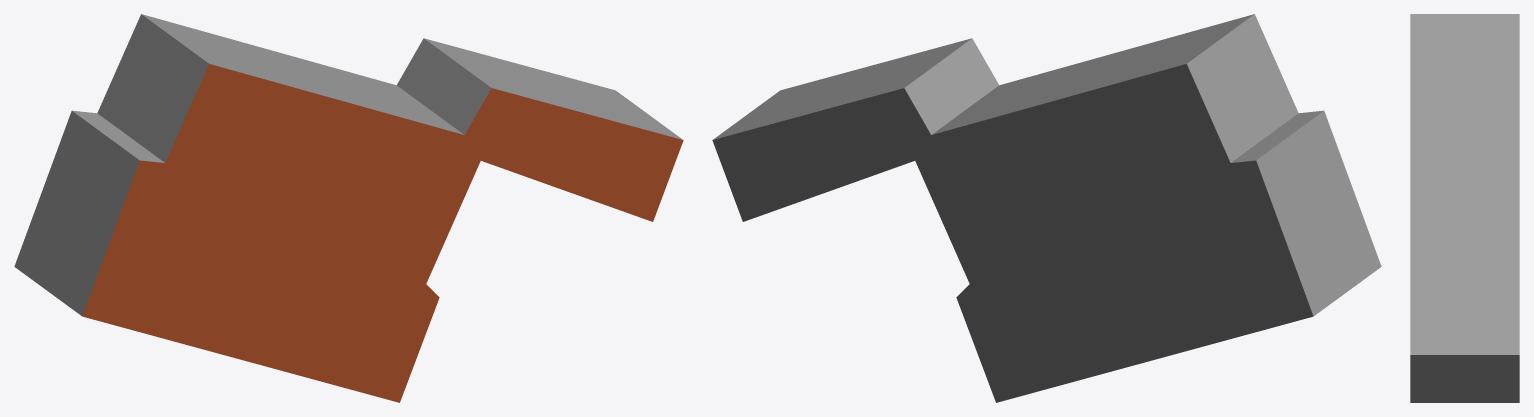
The model's file is construction_6314_assumed_A_Casa_h6m.obj.
3 views of the same model, side by side, from view 1: azimuth 30°, elevation 25°; view 2: azimuth 150°, elevation 25°; view 3: azimuth 270°, elevation 25° (orthographic). The views are drawn at different scales.
Visible parts, largest first — view 1: construction_6314_assumed_A_Casa; view 2: construction_6314_assumed_A_Casa; view 3: construction_6314_assumed_A_Casa.
Boxes of the visible parts, <box> form: construction_6314_assumed_A_Casa: <box>14,14,683,402</box>; construction_6314_assumed_A_Casa: <box>712,14,1381,402</box>; construction_6314_assumed_A_Casa: <box>1410,14,1519,402</box>.
Bounding box in the file's own units: 30.6 × 18.76 × 6.
